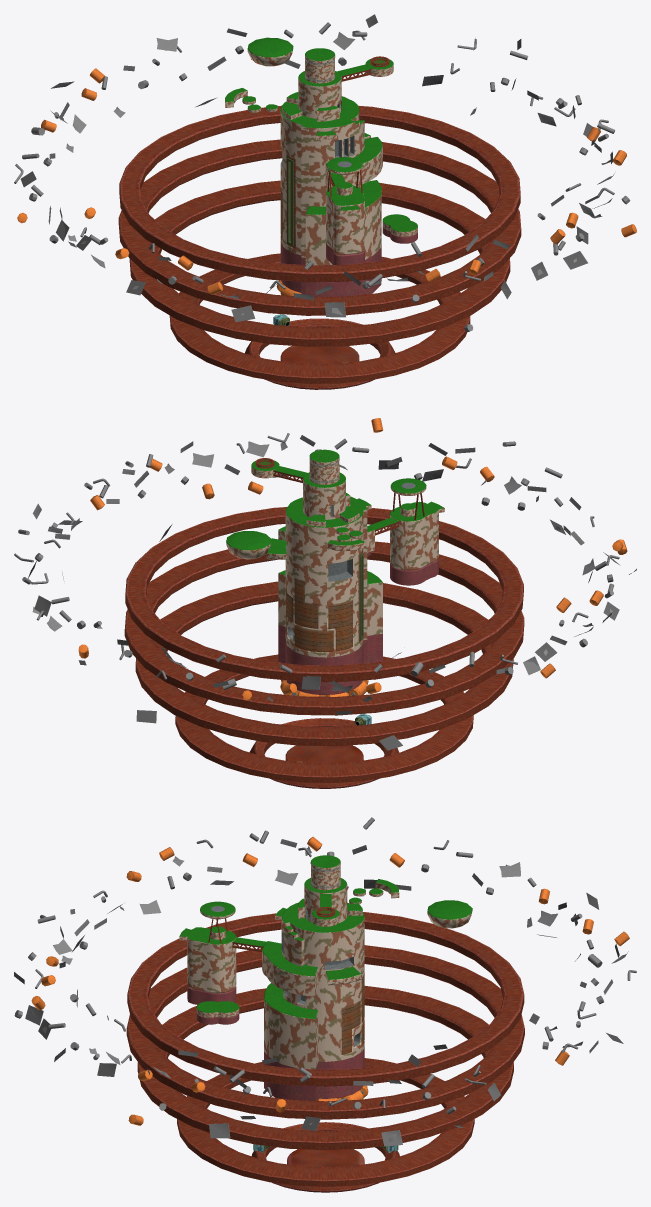
File: BuoyBowl.fbx
The picture shows the model from 3 angles, top to bottom: view 1: azimuth 30°, elevation 25°; view 2: azimuth 150°, elevation 25°; view 3: azimuth 270°, elevation 25°; orthographic projection.
Visible parts, largest first — view 1: FloatyLandPlanet, z_Decor; view 2: FloatyLandPlanet, z_Decor; view 3: FloatyLandPlanet, z_Decor.
Boxes of the visible parts, x1,y1,x2,y2 form: FloatyLandPlanet: [118, 37, 521, 389]; z_Decor: [14, 14, 636, 331]; FloatyLandPlanet: [124, 449, 524, 788]; z_Decor: [14, 418, 636, 750]; FloatyLandPlanet: [126, 855, 524, 1192]; z_Decor: [14, 817, 636, 1146].
Size of the model in its own units: 2074600 by 1166143 by 2092700.
Materials: 16 (13 with a texture image).
